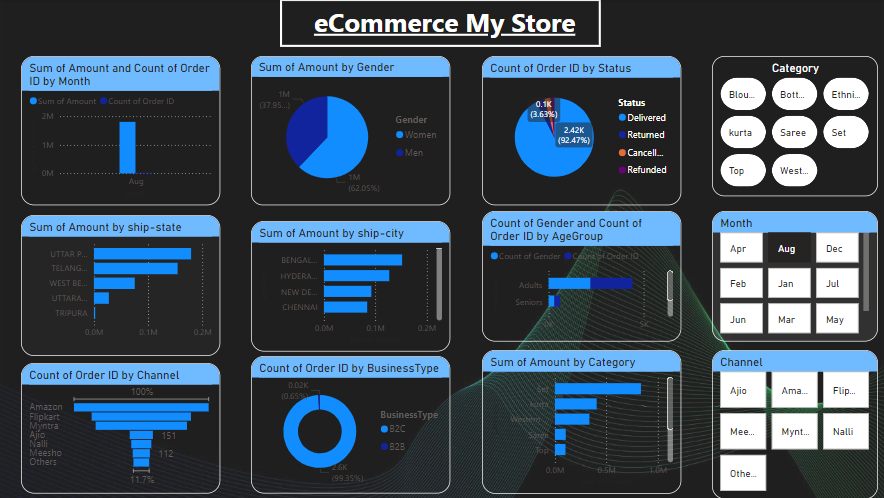

The page's visual inventory and layout, read from the dashboard file:
{"tool":"powerbi","page":{"name":"Page 7","canvas":[1280,720],"ordinal":6},"visuals":[{"type":"textbox","box":[406.5,0,461.9,68.9],"z":0},{"type":"clusteredColumnChart","fields":{"Category":["My store.Month"],"Y":["Sum(My store.Amount)","CountNonNull(My store.Order ID)"]},"box":[33.6,82.3,287.2,215],"z":1000},{"type":"pieChart","fields":{"Category":["My store.Gender"],"Y":["Sum(My store.Amount)"]},"box":[364.5,82.3,287.2,215],"z":2000},{"type":"pieChart","fields":{"Category":["My store.Status"],"Y":["CountNonNull(My store.Order ID)"]},"box":[697.1,82.3,287.2,215],"z":3000},{"type":"barChart","fields":{"Category":["My store.ship-state"],"Y":["Sum(My store.Amount)"]},"box":[33.6,310.8,287.2,203.3],"z":4000},{"type":"barChart","fields":{"Category":["My store.AgeGroup"],"Y":["CountNonNull(My store.Gender)","CountNonNull(My store.Order ID)"]},"box":[697.1,305.7,287.2,188.1],"z":5000},{"type":"funnel","fields":{"Category":["My store.Channel "],"Y":["CountNonNull(My store.Order ID)"]},"box":[33.6,524.1,287.2,188.1],"z":6000},{"type":"barChart","fields":{"Category":["My store.ship-city"],"Y":["Sum(My store.Amount)"]},"box":[364.5,319.2,287.2,188.1],"z":7000},{"type":"donutChart","fields":{"Category":["My store.BusinessType"],"Y":["CountNonNull(My store.Order ID)"]},"box":[364.5,514,287.2,198.2],"z":8000},{"type":"barChart","fields":{"Category":["My store.Category"],"Y":["Sum(My store.Amount)"]},"box":[697.1,505.6,287.2,206.6],"z":9000},{"type":"advancedSlicerVisual","fields":{"Values":["My store.Category"]},"box":[1028,82.3,238.5,201.6],"z":10000},{"type":"advancedSlicerVisual","fields":{"Values":["My store.Channel "]},"box":[1028,505.6,238.5,215],"z":11000},{"type":"advancedSlicerVisual","fields":{"Values":["My store.Month"]},"box":[1028,305.7,238.5,188.1],"z":12000}]}

Visuals, with their boxes in screenshot pixels (x1, y1, x2, y2), scaled from the page's 1280x720 canvas onto the 884x498 screenshot:
textbox: box(281, 0, 600, 48)
clusteredColumnChart - My store.Month x Sum(My store.Amount): box(23, 57, 222, 206)
pieChart - My store.Gender x Sum(My store.Amount): box(252, 57, 450, 206)
pieChart - My store.Status x CountNonNull(My store.Order ID): box(481, 57, 680, 206)
barChart - My store.ship-state x Sum(My store.Amount): box(23, 215, 222, 356)
barChart - My store.AgeGroup x CountNonNull(My store.Gender): box(481, 211, 680, 342)
funnel - My store.Channel  x CountNonNull(My store.Order ID): box(23, 363, 222, 493)
barChart - My store.ship-city x Sum(My store.Amount): box(252, 221, 450, 351)
donutChart - My store.BusinessType x CountNonNull(My store.Order ID): box(252, 356, 450, 493)
barChart - My store.Category x Sum(My store.Amount): box(481, 350, 680, 493)
advancedSlicerVisual - My store.Category: box(710, 57, 875, 196)
advancedSlicerVisual - My store.Channel : box(710, 350, 875, 497)
advancedSlicerVisual - My store.Month: box(710, 211, 875, 342)
